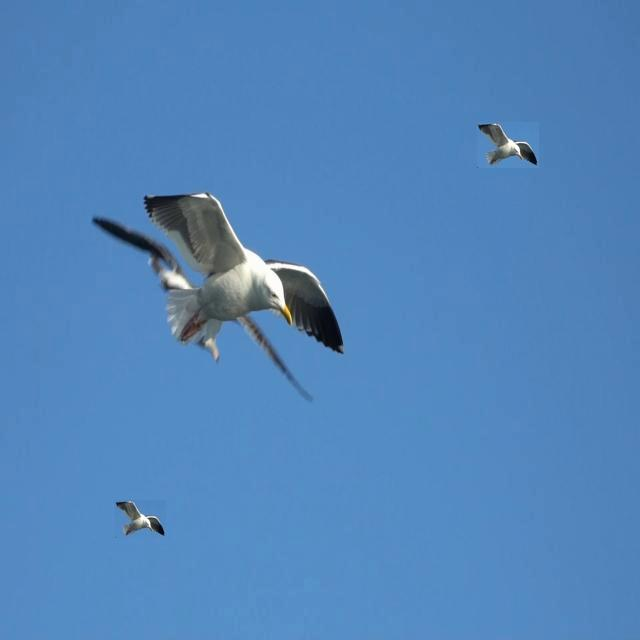bird: (89, 216, 319, 406), (139, 187, 350, 359), (478, 125, 537, 168), (115, 499, 164, 537)
